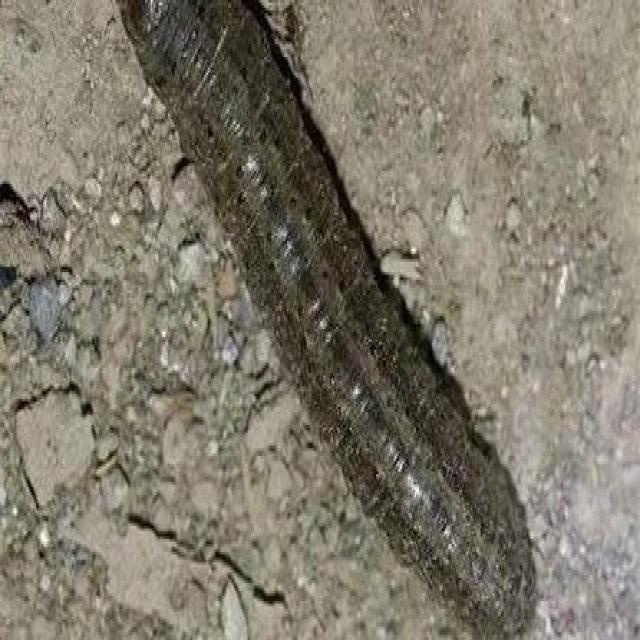black cutworm: (112, 3, 543, 640)
